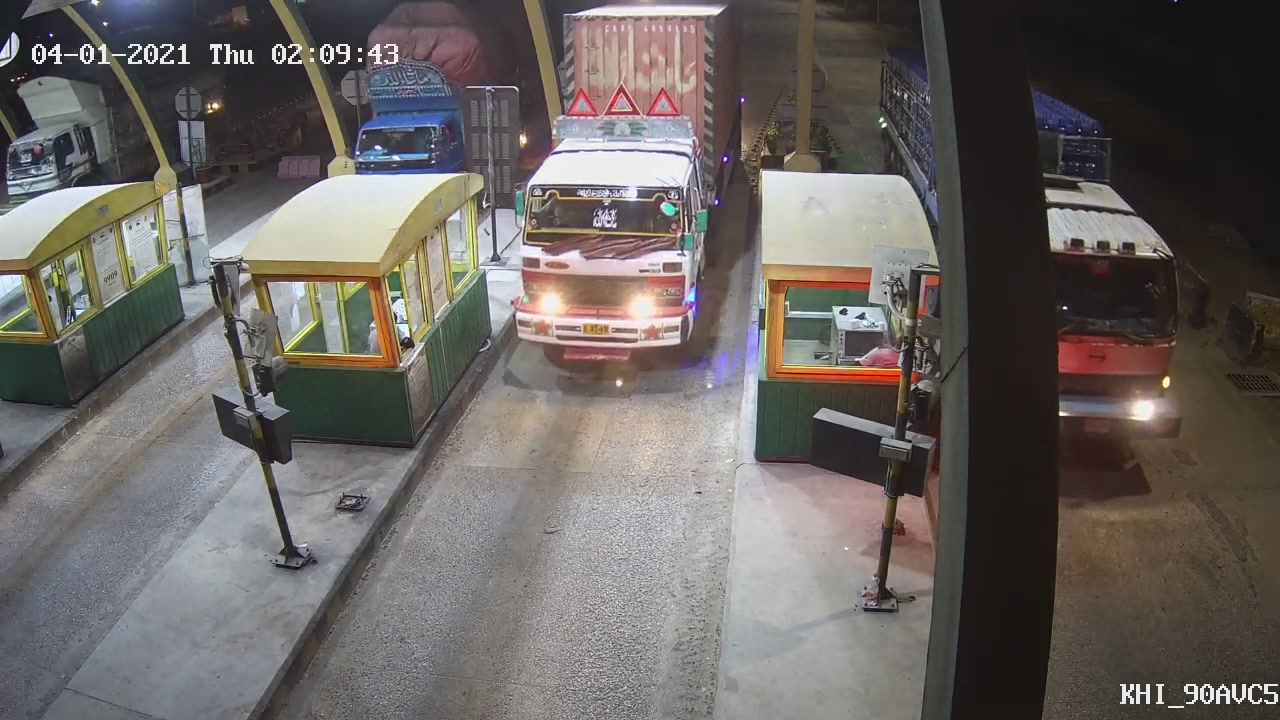F6: (502, 1, 743, 376)
